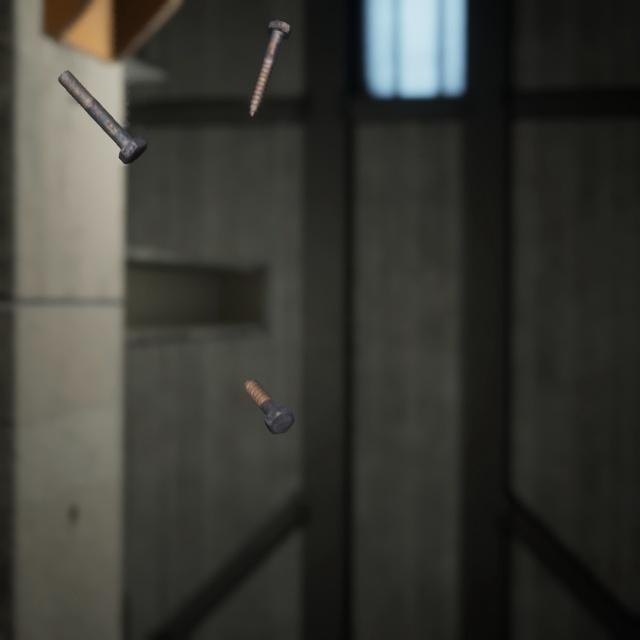bolt: (53, 54, 151, 156), (244, 4, 295, 110), (240, 355, 299, 418)
